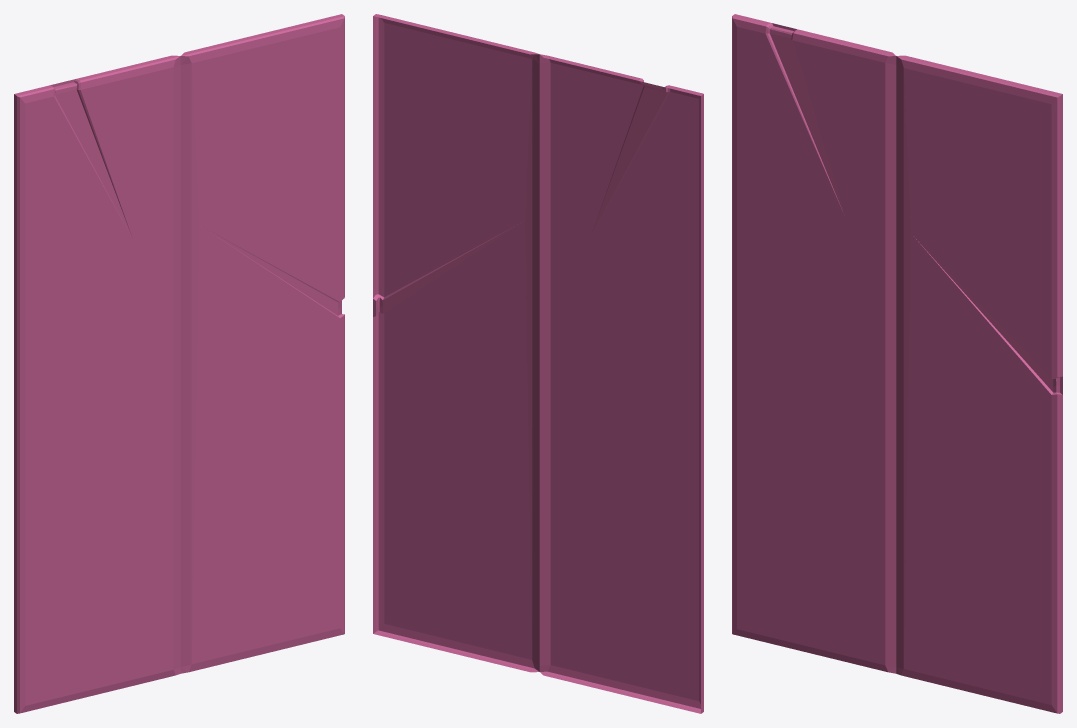
File: WallPanelCracked_Model_v04.fbx
The picture shows the model from 3 angles, left to right: view 1: azimuth 30°, elevation 25°; view 2: azimuth 150°, elevation 25°; view 3: azimuth 330°, elevation 25°; orthographic projection.
Visible parts, largest first — view 1: pPlane2; view 2: pPlane2; view 3: pPlane2.
Boxes of the visible parts, x1=… form: pPlane2: x1=14, y1=14, x2=344, y2=713; pPlane2: x1=373, y1=14, x2=703, y2=713; pPlane2: x1=732, y1=14, x2=1062, y2=713.
Size of the model in its own units: 200 by 360 by 4.86.
Materials: 1 (1 with a texture image).
